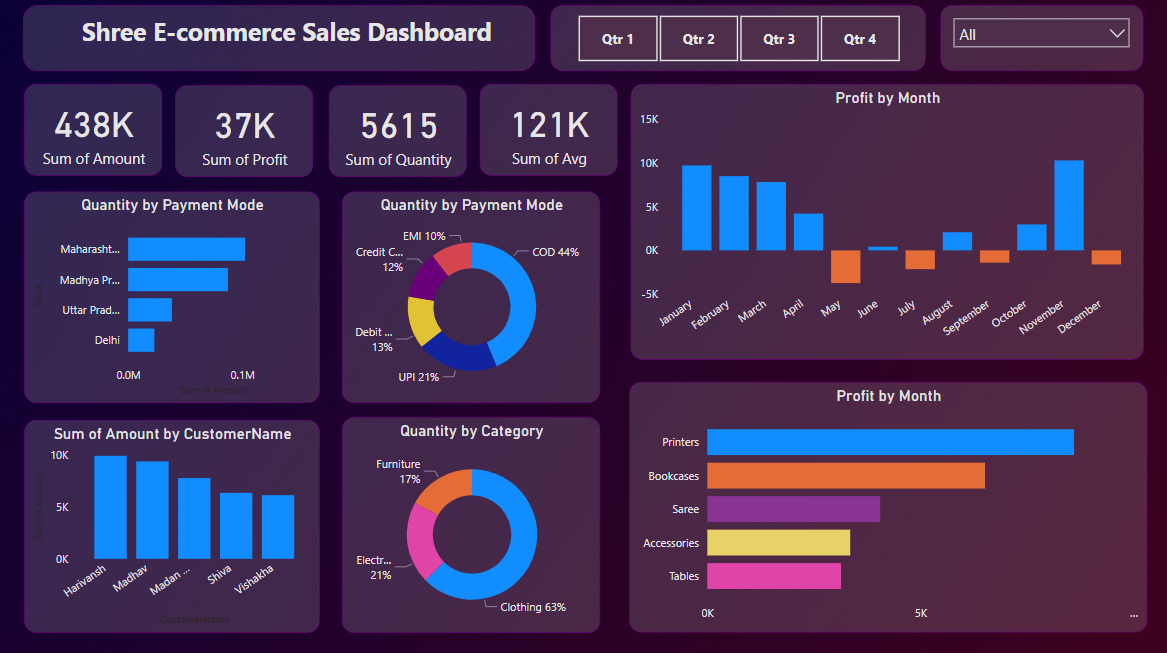

What the dashboard file says about the page in this screenshot:
{"tool":"powerbi","page":{"name":"Page 1","canvas":[1280,720],"ordinal":0},"visuals":[{"type":"textbox","box":[27.3,10,558,71.3],"z":0},{"type":"columnChart","title":" Profit by Month","fields":{"Category":["Orders.Order Date.Variation.Date Hierarchy.Month"],"Y":["Details.Profit"]},"box":[688,95.7,558.6,300],"z":1000},{"type":"barChart","title":" Profit by Month","fields":{"Category":["Details.Sub-Category"],"Y":["Details.Profit"]},"box":[687.7,420,563.8,273.1],"z":2000},{"type":"donutChart","title":" Quantity by Category","fields":{"Y":["Details.Quantity"],"Category":["Details.Category"]},"box":[374.3,458.6,281.4,234.3],"z":3000},{"type":"donutChart","title":" Quantity by Payment Mode","fields":{"Y":["Details.Quantity"],"Category":["Details.PaymentMode"]},"box":[374.7,212.9,281.4,230],"z":4000},{"type":"card","fields":{"Values":["Details.Amount"]},"box":[28.5,95.4,150,100],"z":5000},{"type":"card","fields":{"Values":["Details.Profit"]},"box":[193.1,96.9,150,100],"z":6000},{"type":"card","fields":{"Values":["Details.Quantity"]},"box":[360,96.9,150,100],"z":7000},{"type":"card","fields":{"Values":["Details.Avg"]},"box":[524.6,96.2,150,100],"z":8000},{"type":"barChart","title":" Quantity by Payment Mode","fields":{"Category":["Orders.State"],"Y":["Details.Amount"]},"box":[28.6,212.9,321.4,230],"z":9000},{"type":"columnChart","fields":{"Category":["Orders.CustomerName"],"Y":["Details.Amount"]},"box":[28.6,461.4,321.4,231.4],"z":10000},{"type":"slicer","fields":{"Values":["Orders.Order Date.Variation.Date Hierarchy.Quarter"]},"box":[601.4,10,408.6,71.4],"z":11000},{"type":"slicer","fields":{"Values":["Orders.Order Date.Variation.Date Hierarchy.Month"]},"box":[1025.4,10,220.8,71.5],"z":12000}]}

Visuals, with their boxes in screenshot pixels (x1, y1, x2, y2), scaled from the page's 1280x720 canvas onto the 1167x653 screenshot:
textbox: 25,9,534,74
" Profit by Month" columnChart: 627,87,1137,359
" Profit by Month" barChart: 627,381,1141,629
" Quantity by Category" donutChart: 341,416,598,628
" Quantity by Payment Mode" donutChart: 342,193,598,402
card - Details.Amount: 26,87,163,177
card - Details.Profit: 176,88,313,179
card - Details.Quantity: 328,88,465,179
card - Details.Avg: 478,87,615,178
" Quantity by Payment Mode" barChart: 26,193,319,402
columnChart - Orders.CustomerName x Details.Amount: 26,418,319,628
slicer - Orders.Order Date.Variation.Date Hierarchy.Quarter: 548,9,921,74
slicer - Orders.Order Date.Variation.Date Hierarchy.Month: 935,9,1136,74
